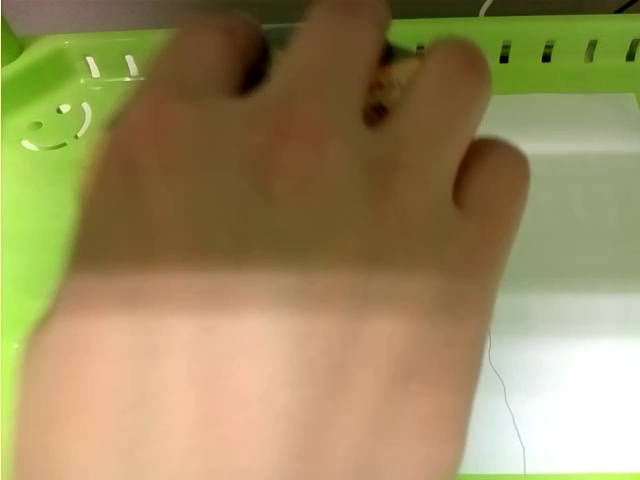hand: (14, 12, 530, 480)
